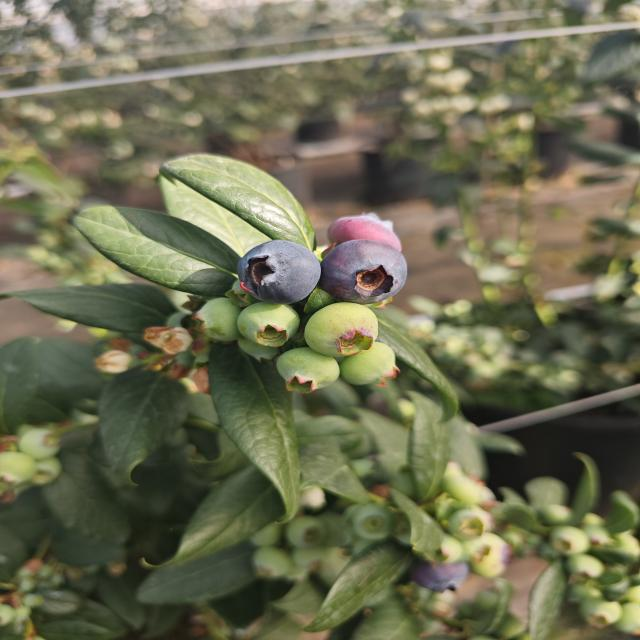ripe: (318, 238, 410, 306), (234, 238, 323, 306), (398, 552, 472, 600)
